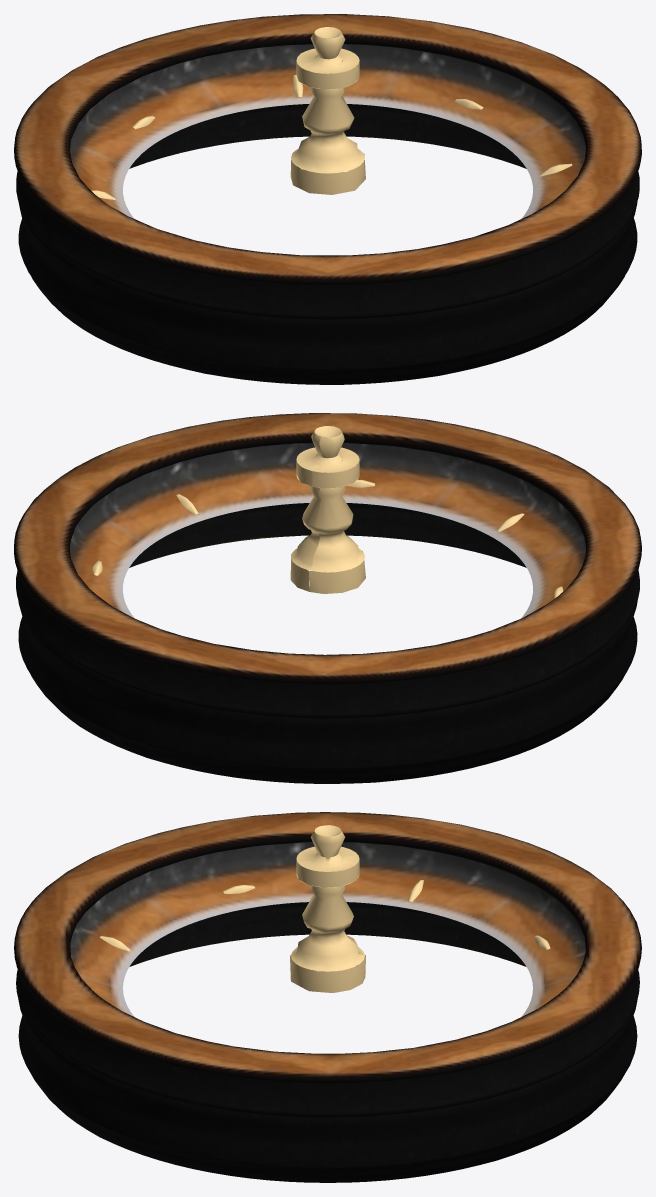
The model's file is roulette.glb.
The picture shows the model from 3 angles, top to bottom: view 1: azimuth 30°, elevation 25°; view 2: azimuth 150°, elevation 25°; view 3: azimuth 270°, elevation 25°; orthographic projection.
Visible parts, largest first — view 1: geo1_outside_0, geo1_turret_0; view 2: geo1_outside_0, geo1_turret_0; view 3: geo1_outside_0, geo1_turret_0.
Part boxes in pixels (box(x1,y1,x2,y2)): geo1_outside_0: box(14, 14, 641, 384); geo1_turret_0: box(290, 27, 365, 194); geo1_outside_0: box(14, 413, 641, 783); geo1_turret_0: box(290, 426, 365, 593); geo1_outside_0: box(14, 812, 641, 1182); geo1_turret_0: box(290, 825, 365, 992).
Bounding box in the file's own units: 1.43 × 0.5736 × 1.43.
Materials: 2 (2 with a texture image).
